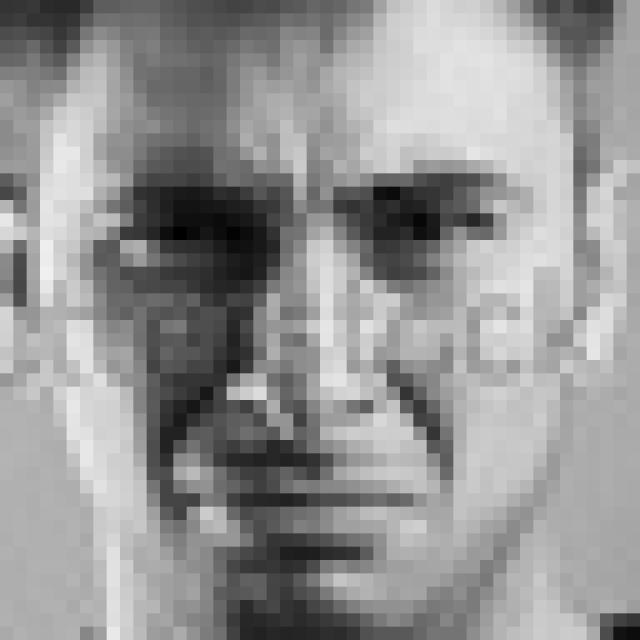disgust: (90, 162, 551, 575)
